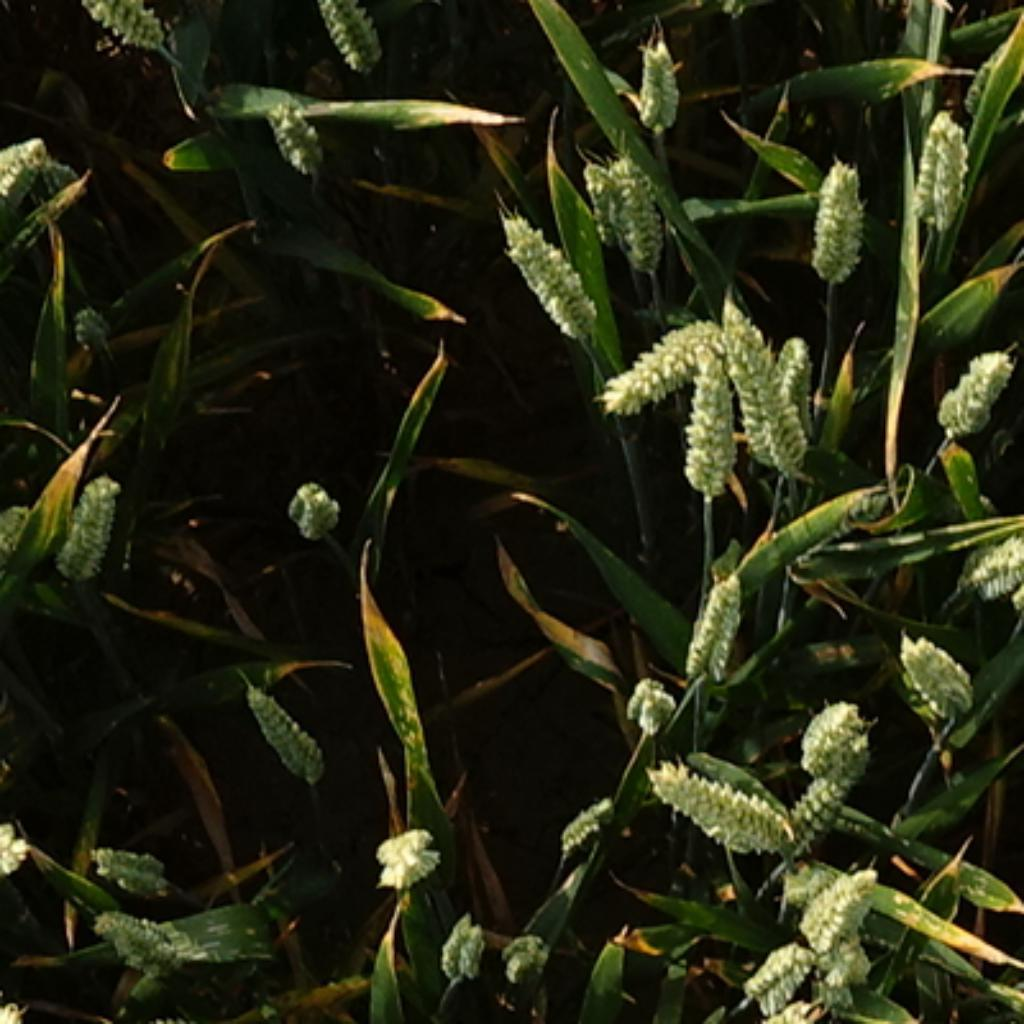0-0: (642, 744, 796, 852), (599, 299, 739, 414), (488, 197, 601, 335), (721, 302, 811, 471), (789, 866, 889, 974), (238, 679, 335, 787), (783, 737, 865, 855), (803, 148, 875, 279), (901, 92, 975, 217), (675, 358, 742, 494), (934, 340, 1024, 440), (51, 471, 128, 586), (760, 335, 824, 471), (683, 558, 755, 678), (601, 156, 675, 268), (89, 906, 194, 978), (890, 622, 975, 709), (791, 686, 865, 773), (256, 89, 330, 171), (550, 773, 624, 855), (578, 156, 642, 248), (366, 819, 445, 893), (744, 926, 821, 1000), (304, 2, 389, 69), (84, 829, 171, 890), (952, 529, 1024, 601), (632, 30, 686, 125), (66, 2, 176, 48), (619, 663, 680, 732), (435, 911, 491, 983), (2, 128, 48, 215), (496, 921, 555, 985), (284, 483, 342, 541), (833, 945, 886, 996), (66, 296, 115, 348), (773, 865, 824, 909), (2, 821, 38, 880), (2, 501, 33, 558)
